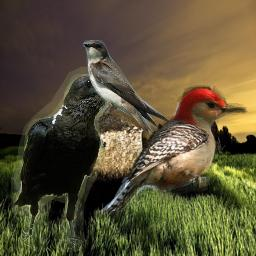Crow: (11, 66, 125, 252)
Swallow: (83, 40, 170, 135)
Woodpecker: (98, 84, 251, 217)
